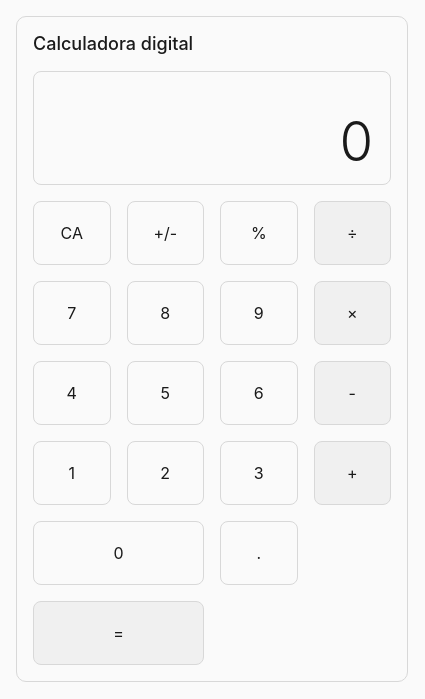
it: Calculadora digital › resuelve operaciones encadenadas al presionar otro operador
Click the button named "Número 7": [72, 313] box [33,281,110,345]
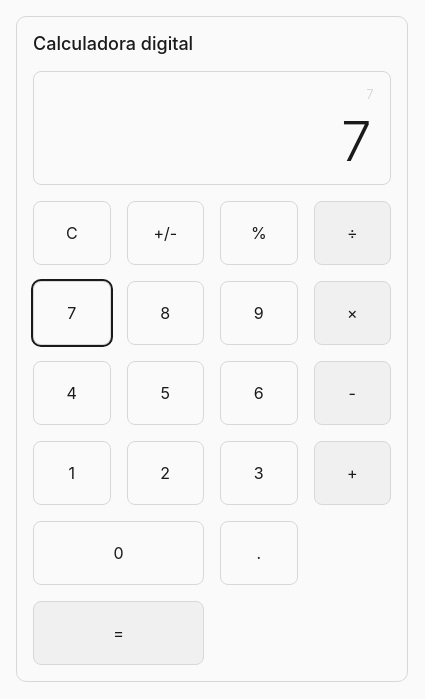
Click the button named "Sumar": [352, 473] box [314,441,391,505]
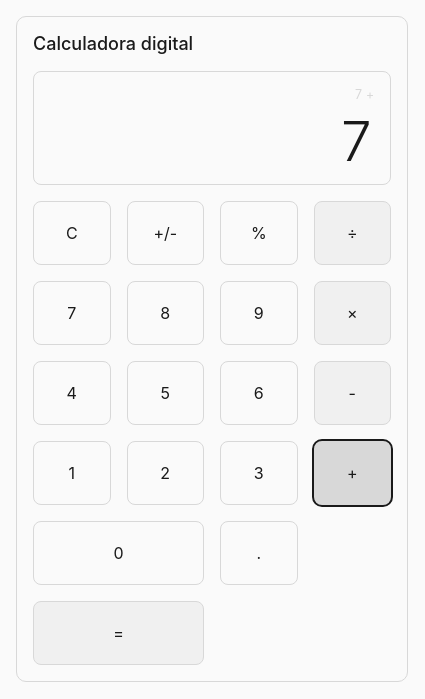
Click the button named "Número 8": [165, 313] box [126,281,204,345]
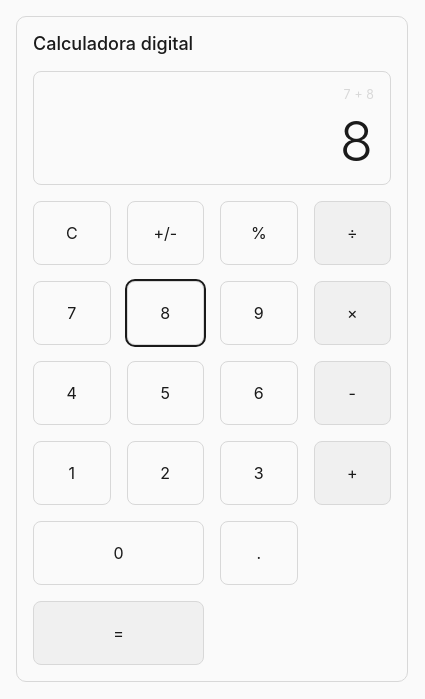
Click the button named "Multiplicar": [352, 313] box [314,281,391,345]
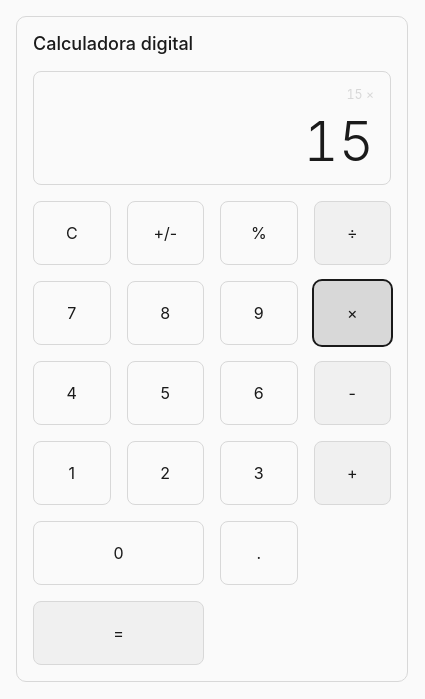
Expected: the text named "display" reads "15", [304,108,374,174]
